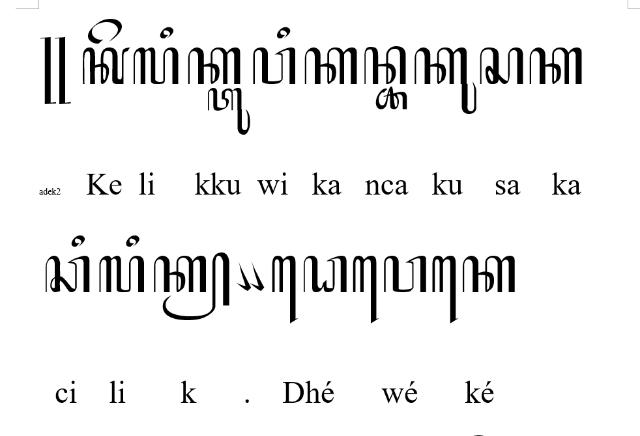-k: (154, 251, 230, 321)
K: (82, 46, 130, 86)
_c: (376, 86, 408, 110)
adeg2: (39, 36, 71, 106)
c: (44, 255, 90, 293)
dh: (304, 256, 348, 294)
e: (88, 18, 122, 44)
e1: (352, 256, 380, 324), (272, 256, 298, 324), (432, 256, 458, 324)
i: (124, 234, 140, 247), (160, 26, 174, 40), (276, 26, 290, 40), (71, 234, 85, 247)
k: (304, 46, 358, 86), (187, 45, 241, 84), (529, 45, 583, 84), (462, 255, 516, 293)
kom: (236, 260, 252, 292), (248, 260, 264, 291)
ku: (414, 48, 476, 114)
l: (132, 47, 180, 85), (98, 255, 146, 293)
n: (364, 45, 406, 84)
s: (478, 47, 524, 85)
tu: (208, 87, 250, 135)
w: (252, 48, 296, 86), (383, 255, 427, 293)
